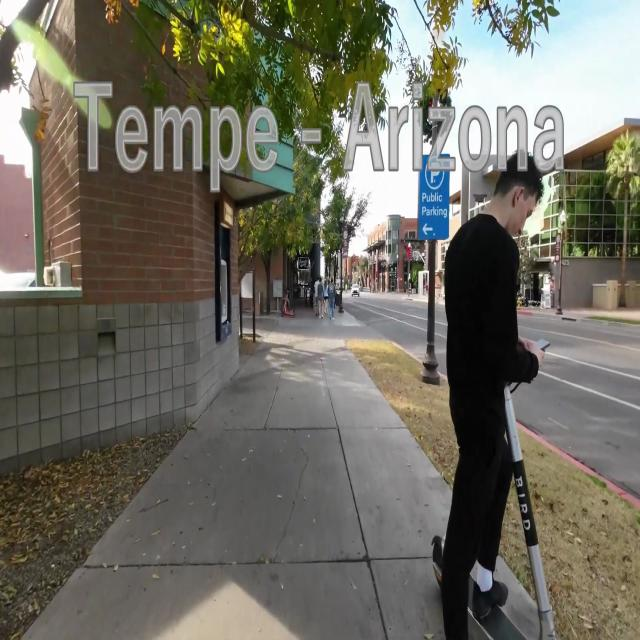road: (513, 313, 640, 503), (354, 293, 427, 357)
side walk: (19, 333, 452, 639)
street sign: (417, 105, 456, 351)
